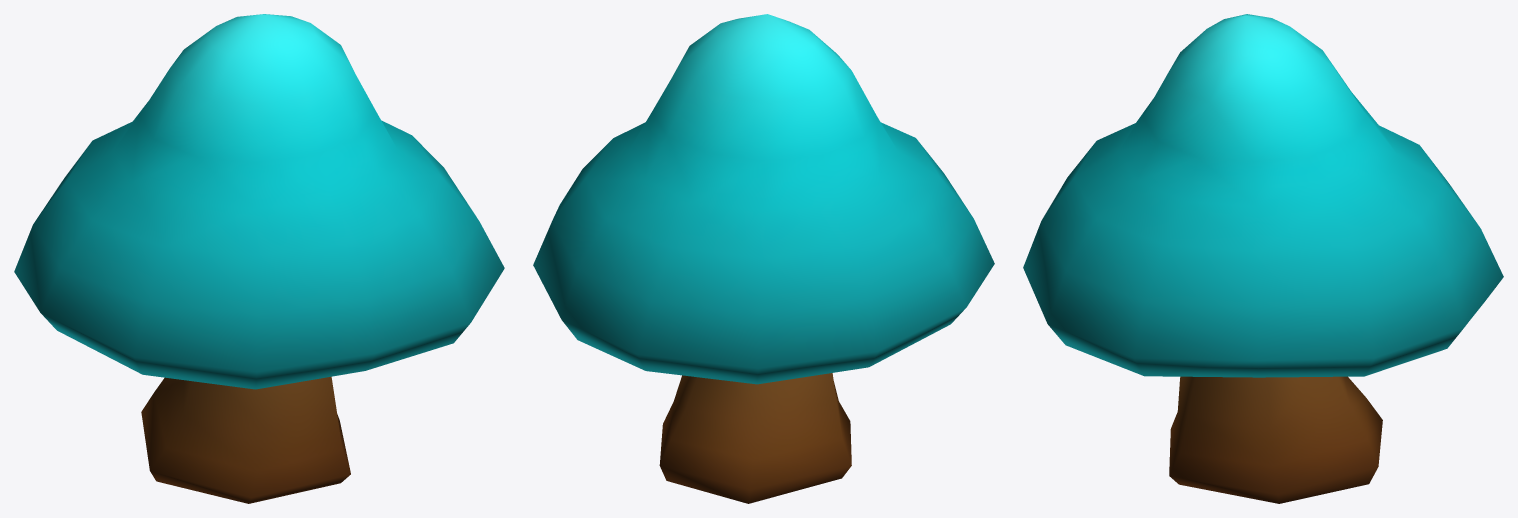
File: Mushroom_E.fbx
3 views of the same model, side by side, from view 1: azimuth 30°, elevation 25°; view 2: azimuth 150°, elevation 25°; view 3: azimuth 270°, elevation 25° (orthographic). The views are drawn at different scales.
Visible parts, largest first — view 1: Mushroom_E; view 2: Mushroom_E; view 3: Mushroom_E.
Part boxes in pixels (x1,y1,x2,y2): Mushroom_E: (14, 14, 504, 503); Mushroom_E: (533, 14, 994, 503); Mushroom_E: (1023, 14, 1503, 503).
Bounding box in the file's own units: 37.11 × 37.73 × 36.75.
